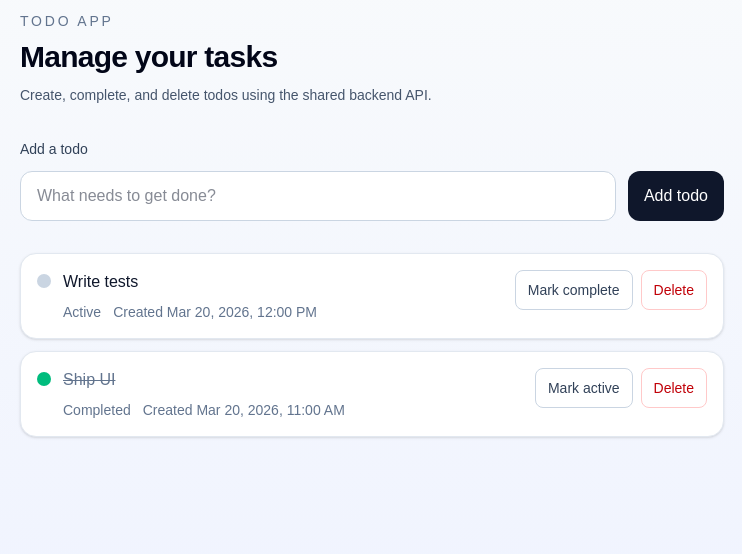
Test: TodoApp › creates a todo and updates the rendered list
Expected: the text "Write tests" is shown, [63,273,138,290]
Type "Review UI" into the field labelled "Add a todo". click: (318, 196)
box: [20,171,616,221]
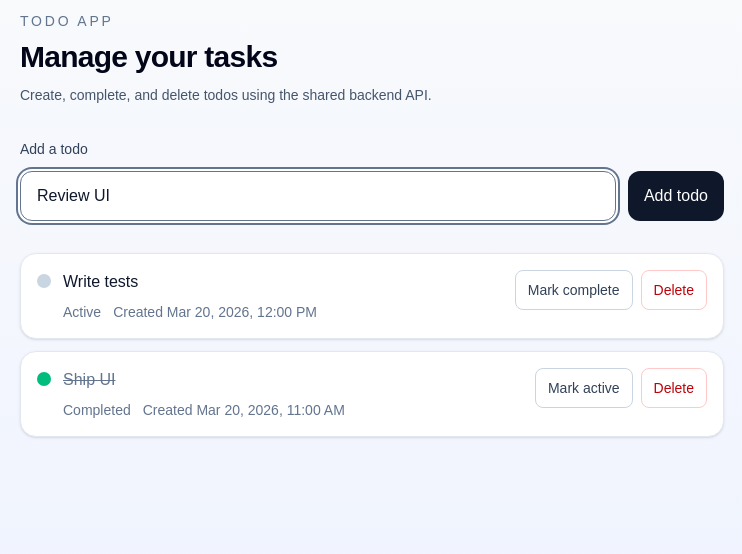
Click the button "Add todo". click: (676, 196)
box: [628,171,724,221]
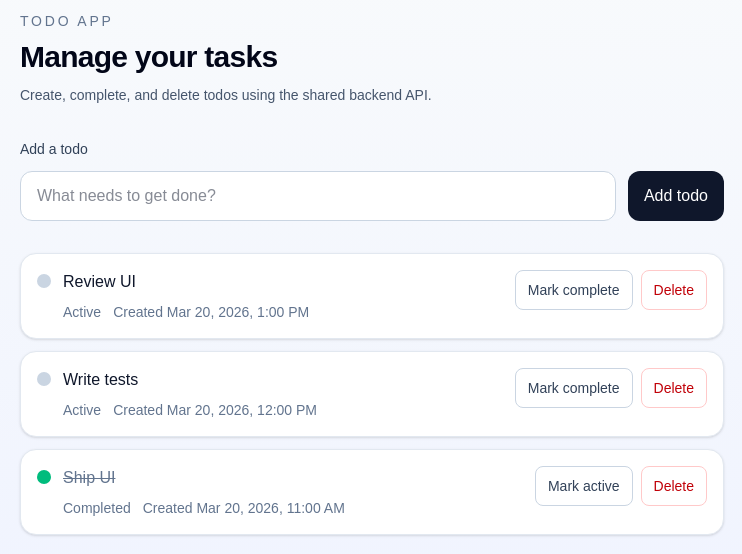
Now the text "Review UI" is shown, box [63,273,136,290]
